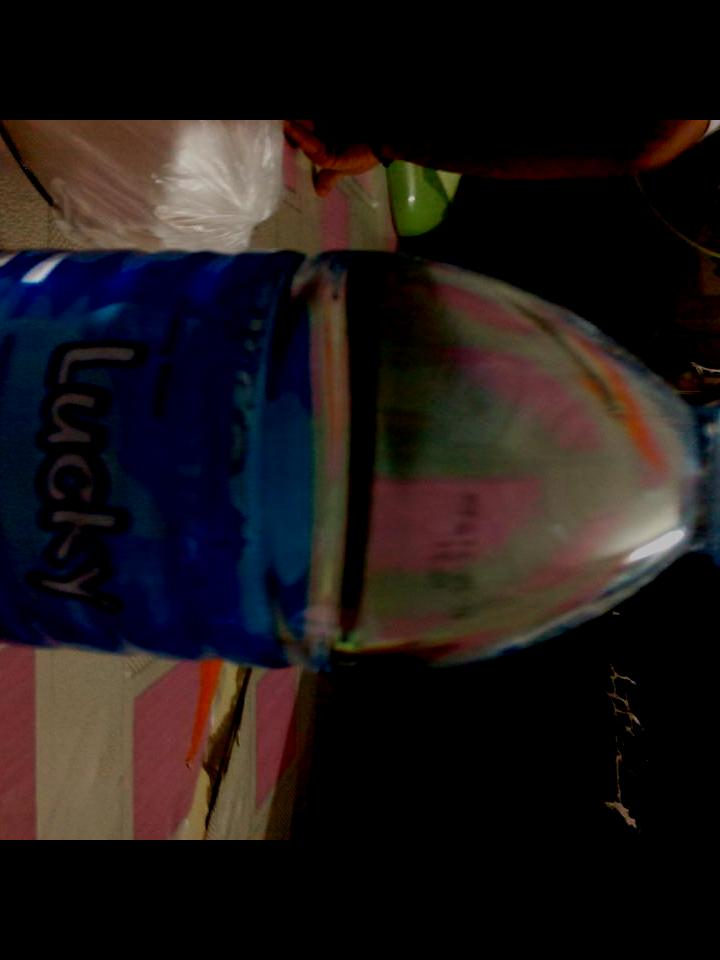bottle: (0, 236, 720, 687)
